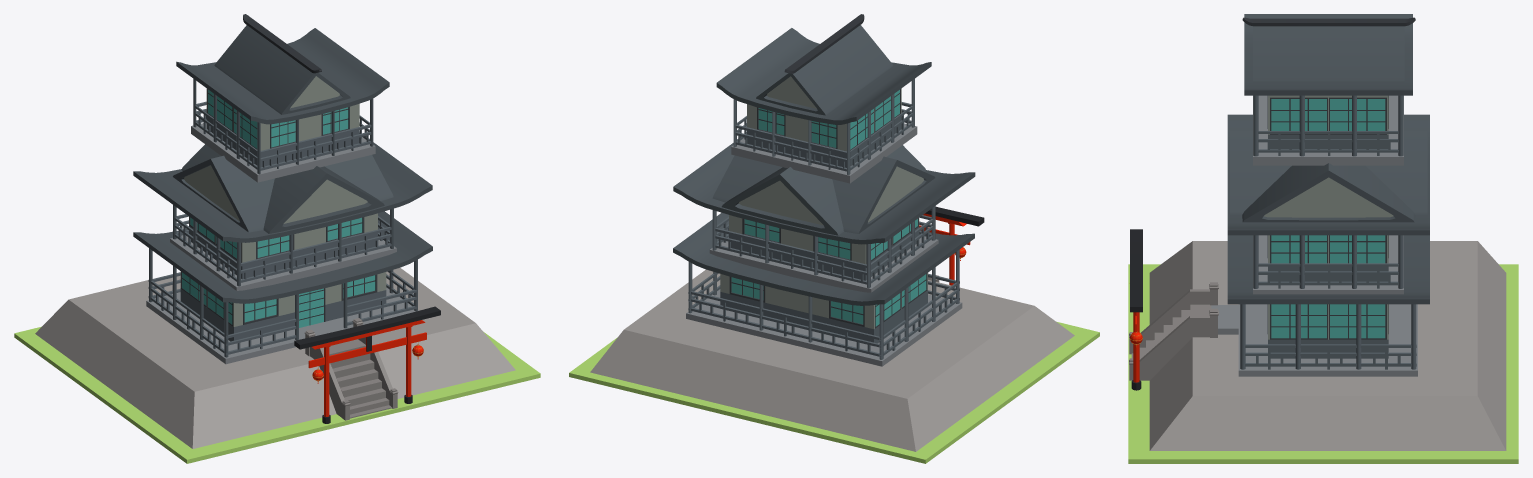
Rendered from MainBuilding_1.fbx.
3 renders of one model, left to right at view 1: azimuth 30°, elevation 25°; view 2: azimuth 150°, elevation 25°; view 3: azimuth 270°, elevation 25°, orthographic. The views are drawn at different scales.
Visible parts, largest first — view 1: MainBuilding_1; view 2: MainBuilding_1; view 3: MainBuilding_1.
Part boxes in pixels (box(x1,y1,x2,y2)): MainBuilding_1: box(14, 14, 540, 463); MainBuilding_1: box(569, 14, 1099, 463); MainBuilding_1: box(1128, 14, 1518, 463).
Size of the model in its own units: 932 by 786 by 789.
